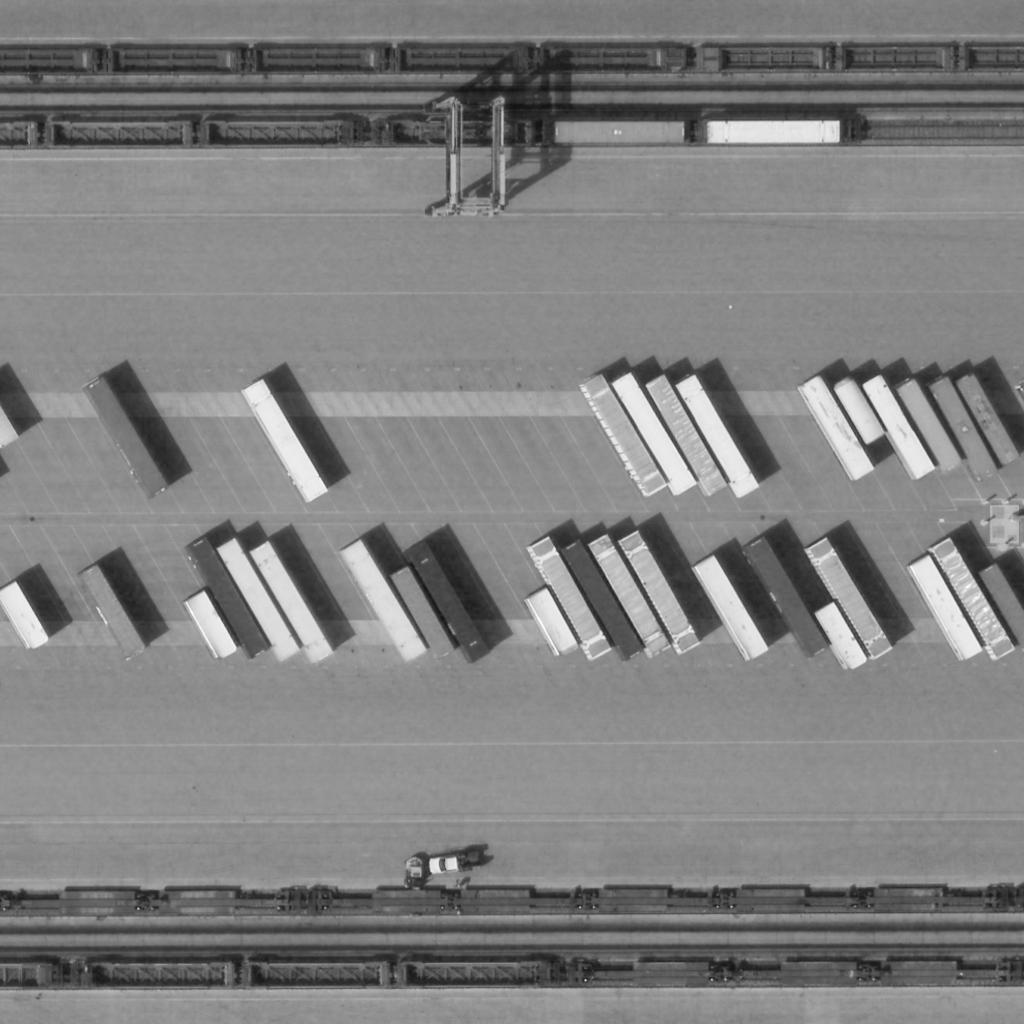vehicle: (428, 852, 484, 876)
